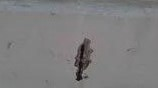Exposed reinforcement: (76, 44, 86, 83)
Spalling: (74, 37, 94, 83)
